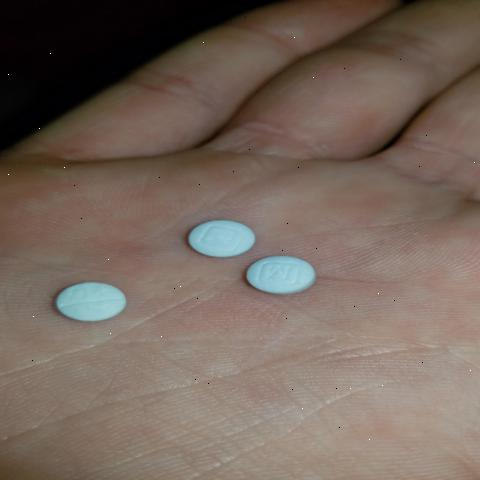Pill: (158, 193, 264, 260), (30, 278, 148, 327), (234, 251, 332, 301)
